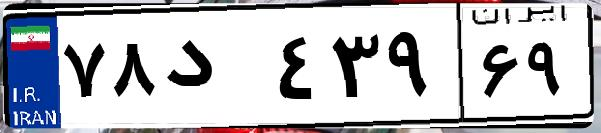3: (330, 28, 385, 110)
4: (270, 28, 330, 110)
6: (475, 38, 525, 113)
7: (57, 26, 110, 100)
8: (110, 28, 158, 98)
9: (385, 28, 445, 110), (525, 38, 570, 115)
د: (158, 20, 270, 120)
